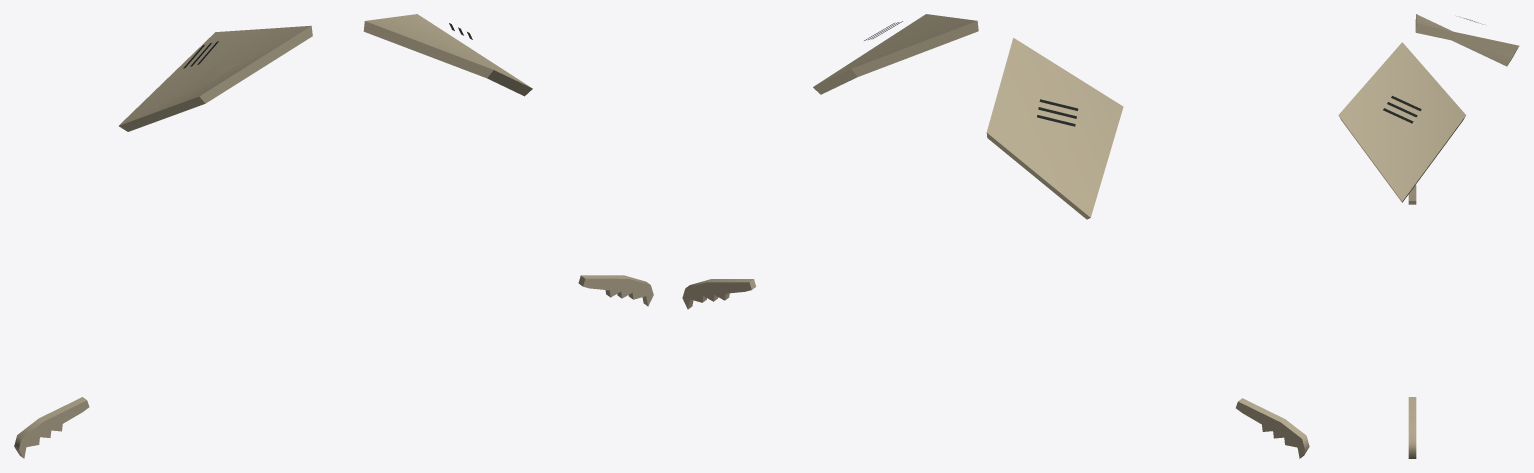
Rendered from shell_tarn_c5.glb.
3 views of the same model, side by side, from view 1: azimuth 30°, elevation 25°; view 2: azimuth 150°, elevation 25°; view 3: azimuth 270°, elevation 25° (orthographic). The views are drawn at different scales.
Parts seen in each view (by area): view 1: Pod, ClawHooks; view 2: Pod, ClawHooks; view 3: Pod, ClawHooks.
Boxes of the visible parts, x1=… form: Pod: x1=119, y1=14, x2=532, y2=131; ClawHooks: x1=14, y1=275, x2=653, y2=458; Pod: x1=813, y1=14, x2=1123, y2=219; ClawHooks: x1=682, y1=279, x2=1309, y2=458; Pod: x1=1338, y1=14, x2=1519, y2=202; ClawHooks: x1=1408, y1=185, x2=1416, y2=458.
Size of the model in its own units: 2.55 by 1.37 by 0.7524.
